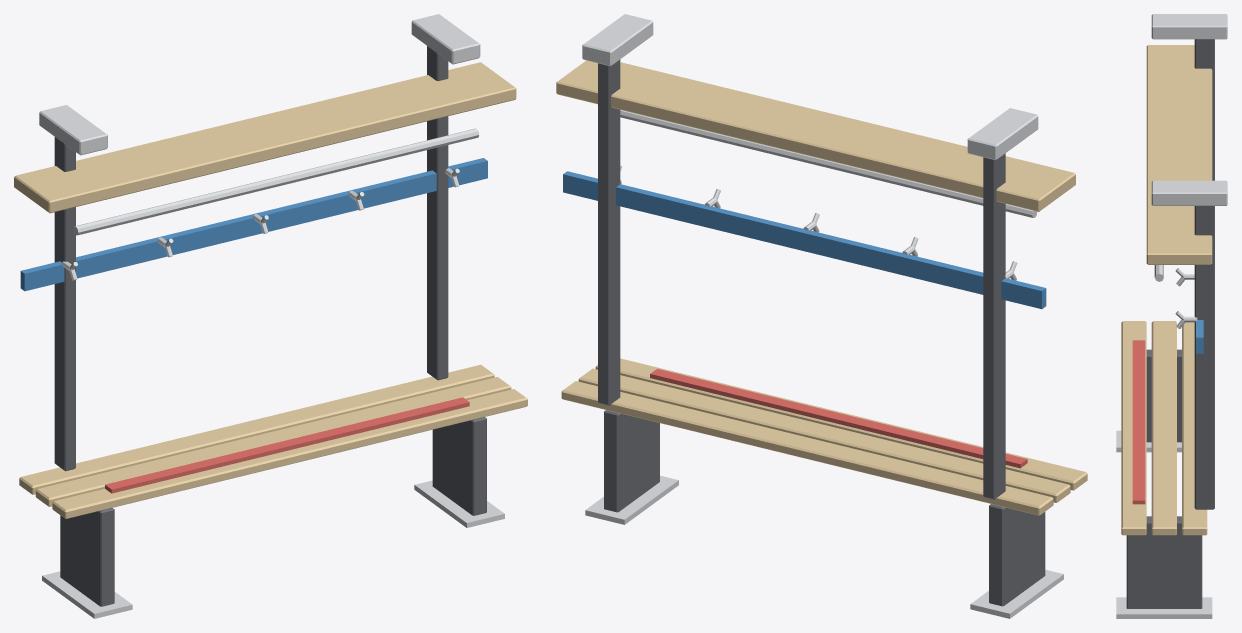
The model's file is public-swimming-baths-and-poolside-changing-bench-with-be640ddc__35267.glb.
3 renders of one model, left to right at view 1: azimuth 30°, elevation 25°; view 2: azimuth 150°, elevation 25°; view 3: azimuth 270°, elevation 25°, orthographic. The views are drawn at different scales.
Parts seen in each view (by area): view 1: changing-bench-with-coat-rail; view 2: changing-bench-with-coat-rail; view 3: changing-bench-with-coat-rail.
Part boxes in pixels (x1=…): changing-bench-with-coat-rail: x1=14, y1=14, x2=527, y2=618; changing-bench-with-coat-rail: x1=556, y1=14, x2=1087, y2=618; changing-bench-with-coat-rail: x1=1116, y1=14, x2=1227, y2=618.
Bounding box in the file's own units: 1.96 × 1.85 × 0.44.
